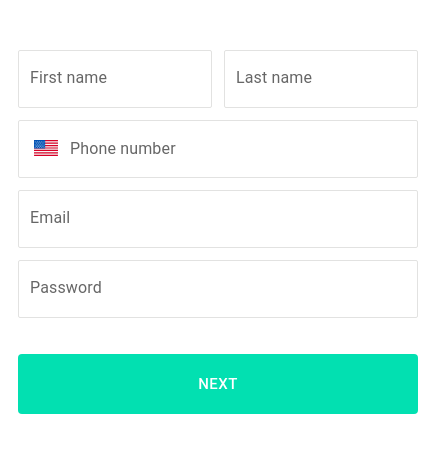
Test case: When Password field Doesn't have Uppercase Character
In the field labelled "Password": (218,289) [19,261,417,317], type "qwerty123"
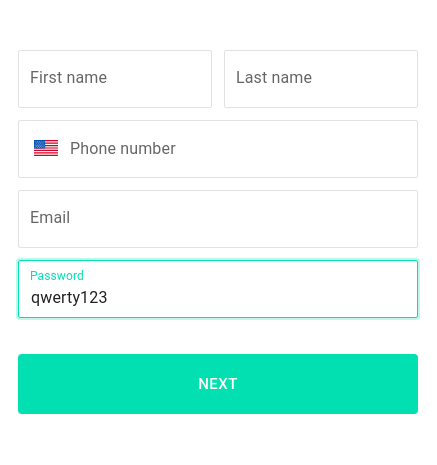
Click the button "NEXT": (218,384) [18,354,418,414]
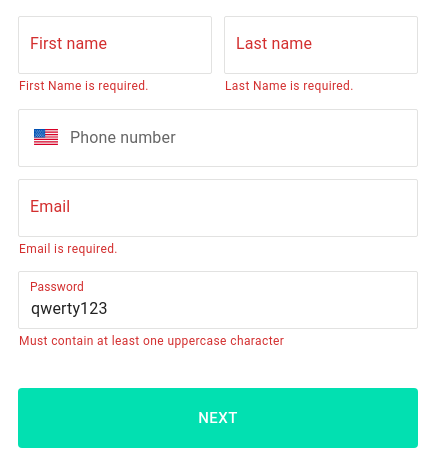
Result: the text "Must contain at least one uppercase character" is shown at [19,334,284,348]
